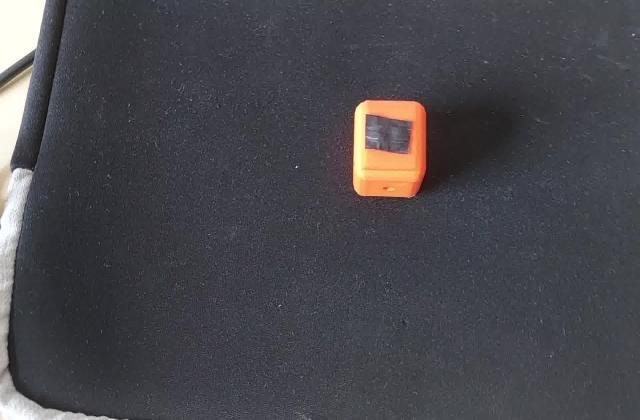black: (360, 111, 419, 158)
sticker: (346, 96, 430, 202)
